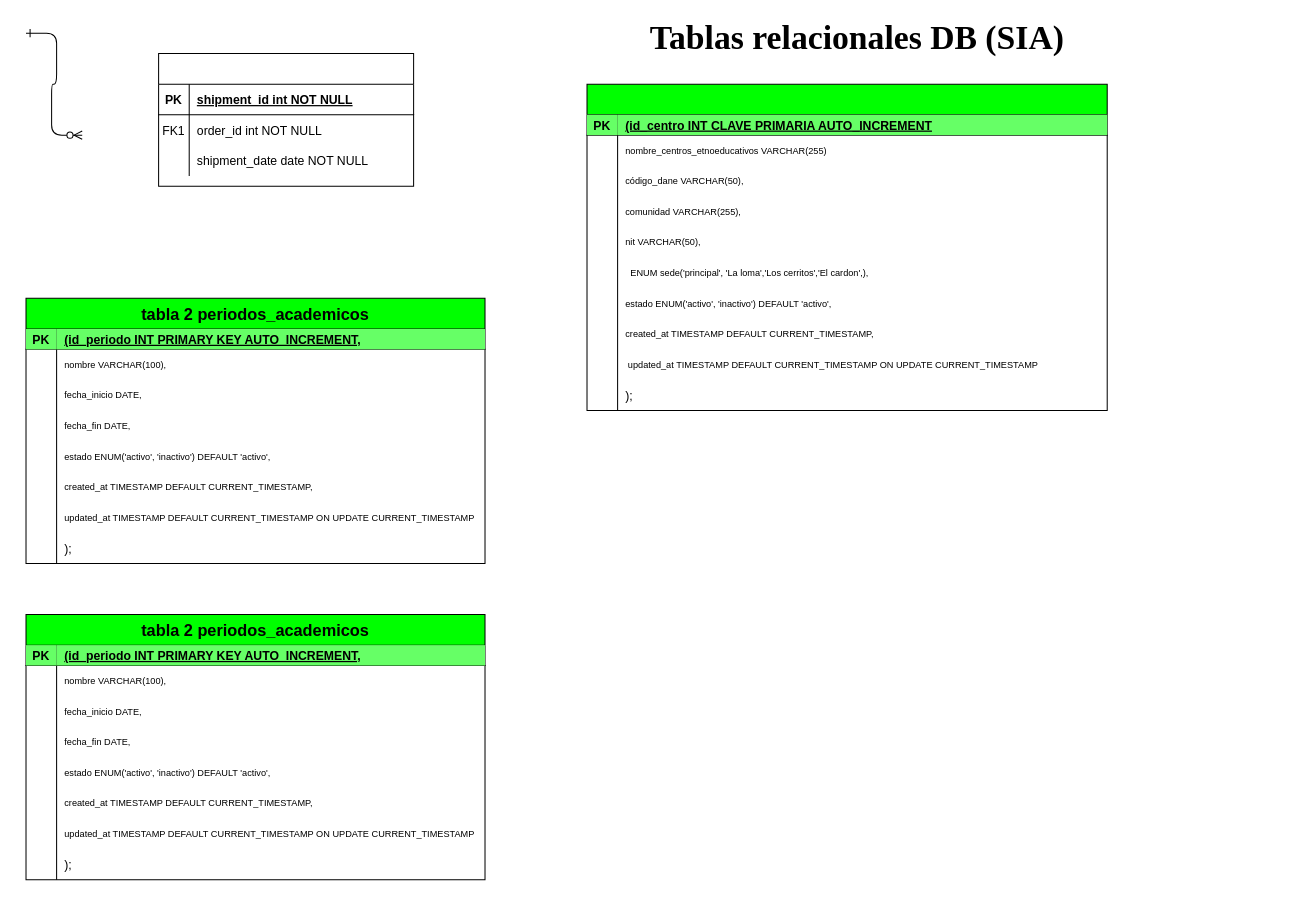
Image size: 1309x898. Some labels were removed from this diagram. The shapes that lost their labels are listed below. From the top down, each one's box as (x1, y1, x2, y2) in pixels, then its label:
(158, 53, 414, 186): Shipments
(586, 83, 1107, 411): tabla 1 centros
